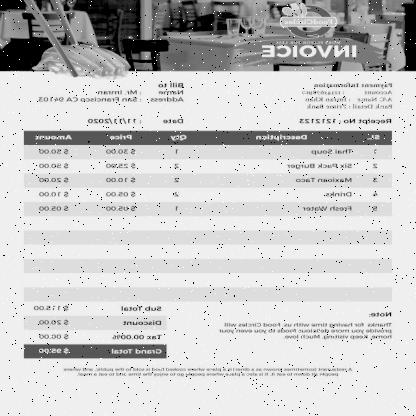Paragraph: (32, 304, 164, 356), (218, 311, 394, 341), (61, 366, 355, 378), (36, 82, 186, 103), (301, 82, 395, 110), (260, 40, 358, 58), (86, 117, 186, 125), (298, 117, 393, 125)
Table: (24, 131, 391, 216)
